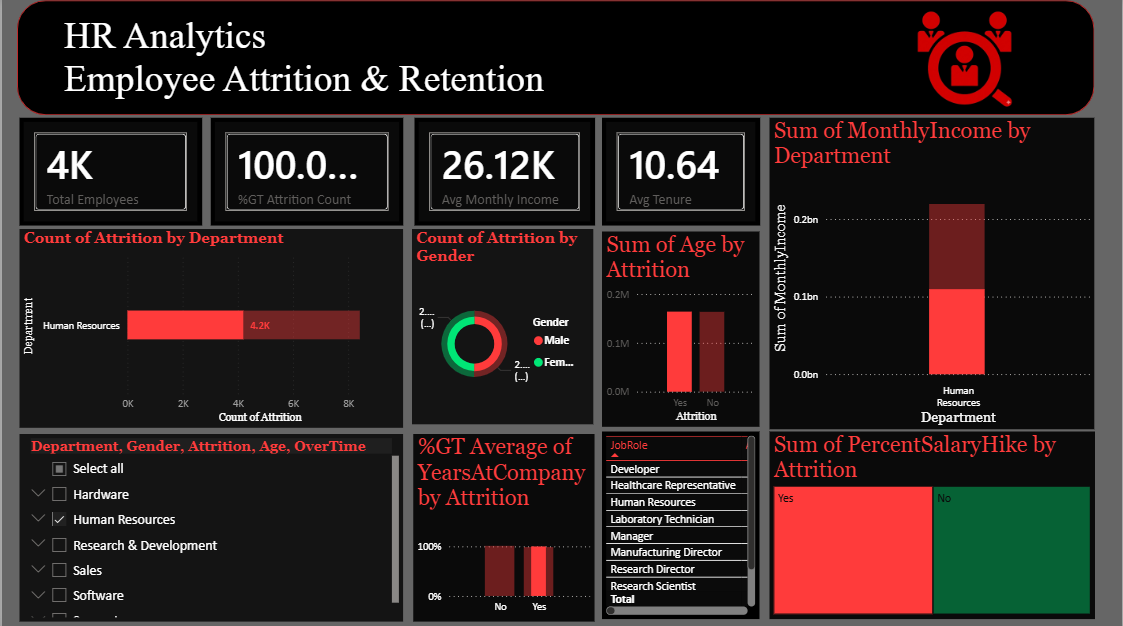

Layout of this report page (visuals, bound fields, positions):
{"tool":"powerbi","page":{"name":"Page 1","canvas":[1280,720],"ordinal":0},"visuals":[{"type":"shape","box":[17.5,1.2,1231.2,131.2],"z":0},{"type":"textbox","box":[65.7,11.4,1017.1,144.3],"z":1000},{"type":"cardVisual","fields":{"Data":["HR_1.Avg Monthly Income"]},"box":[470.9,136.2,206.2,123.4],"z":2000},{"type":"cardVisual","fields":{"Data":["HR_1.Avg Tenure"]},"box":[685.9,136.2,180.7,123.4],"z":3000},{"type":"clusteredBarChart","fields":{"Category":["HR_1.Department"],"Y":["CountNonNull(HR_1.Attrition)"]},"box":[20,262.9,438.6,227.1],"z":4000},{"type":"donutChart","fields":{"Y":["CountNonNull(HR_1.Attrition)"],"Category":["HR_1.Gender"]},"box":[468.6,262.9,207.1,222.9],"z":6000},{"type":"columnChart","fields":{"Y":["Sum(HR_2.MonthlyIncome)"],"Category":["HR_1.Department"]},"box":[877.1,136.3,371.6,355.9],"z":7000},{"type":"columnChart","fields":{"Y":["Sum(HR_2.YearsAtCompany)"],"Category":["HR_1.Attrition"]},"box":[470,497.1,207.1,214.3],"z":8000},{"type":"columnChart","fields":{"Y":["Sum(HR_1.Age)"],"Category":["HR_1.Attrition"]},"box":[685.7,265.7,180,222.9],"z":9000},{"type":"pivotTable","fields":{"Rows":["HR_1.JobRole"],"Values":["HR_1.Avg Work-Life Balance"]},"box":[685.7,494.3,180,214.3],"z":10000},{"type":"slicer","fields":{"Values":["HR_1.Department","HR_1.Gender","HR_1.Attrition","HR_1.Age","HR_2.OverTime"]},"box":[20,497.1,438.6,214.3],"z":11000},{"type":"cardVisual","fields":{"Data":["HR_1.Total Employees"]},"box":[20.4,136.2,208.7,123.4],"z":12000},{"type":"cardVisual","fields":{"Data":["HR_1.Attrition Count"]},"box":[239.3,136.2,220.2,123.4],"z":13000},{"type":"image","box":[1022.9,11.4,154.3,112.9],"z":14000},{"type":"treemap","fields":{"Group":["HR_1.Attrition"],"Values":["Sum(HR_2.PercentSalaryHike)"]},"box":[877,494,372,214],"z":14001}]}

Visuals, with their boxes in screenshot pixels (x1, y1, x2, y2), scaled from the page's 1280x720 canvas onto the 1123x626 screenshot:
shape: <region>15, 1, 1096, 115</region>
textbox: <region>58, 10, 950, 135</region>
cardVisual - HR_1.Avg Monthly Income: <region>413, 118, 594, 226</region>
cardVisual - HR_1.Avg Tenure: <region>602, 118, 760, 226</region>
clusteredBarChart - HR_1.Department x CountNonNull(HR_1.Attrition): <region>18, 229, 402, 426</region>
donutChart - CountNonNull(HR_1.Attrition) x HR_1.Gender: <region>411, 229, 593, 422</region>
columnChart - Sum(HR_2.MonthlyIncome) x HR_1.Department: <region>770, 119, 1096, 428</region>
columnChart - Sum(HR_2.YearsAtCompany) x HR_1.Attrition: <region>412, 432, 594, 619</region>
columnChart - Sum(HR_1.Age) x HR_1.Attrition: <region>602, 231, 760, 425</region>
pivotTable - HR_1.JobRole x HR_1.Avg Work-Life Balance: <region>602, 430, 760, 616</region>
slicer - HR_1.Department x HR_1.Gender: <region>18, 432, 402, 619</region>
cardVisual - HR_1.Total Employees: <region>18, 118, 201, 226</region>
cardVisual - HR_1.Attrition Count: <region>210, 118, 403, 226</region>
image: <region>897, 10, 1033, 108</region>
treemap - HR_1.Attrition x Sum(HR_2.PercentSalaryHike): <region>769, 430, 1096, 616</region>
